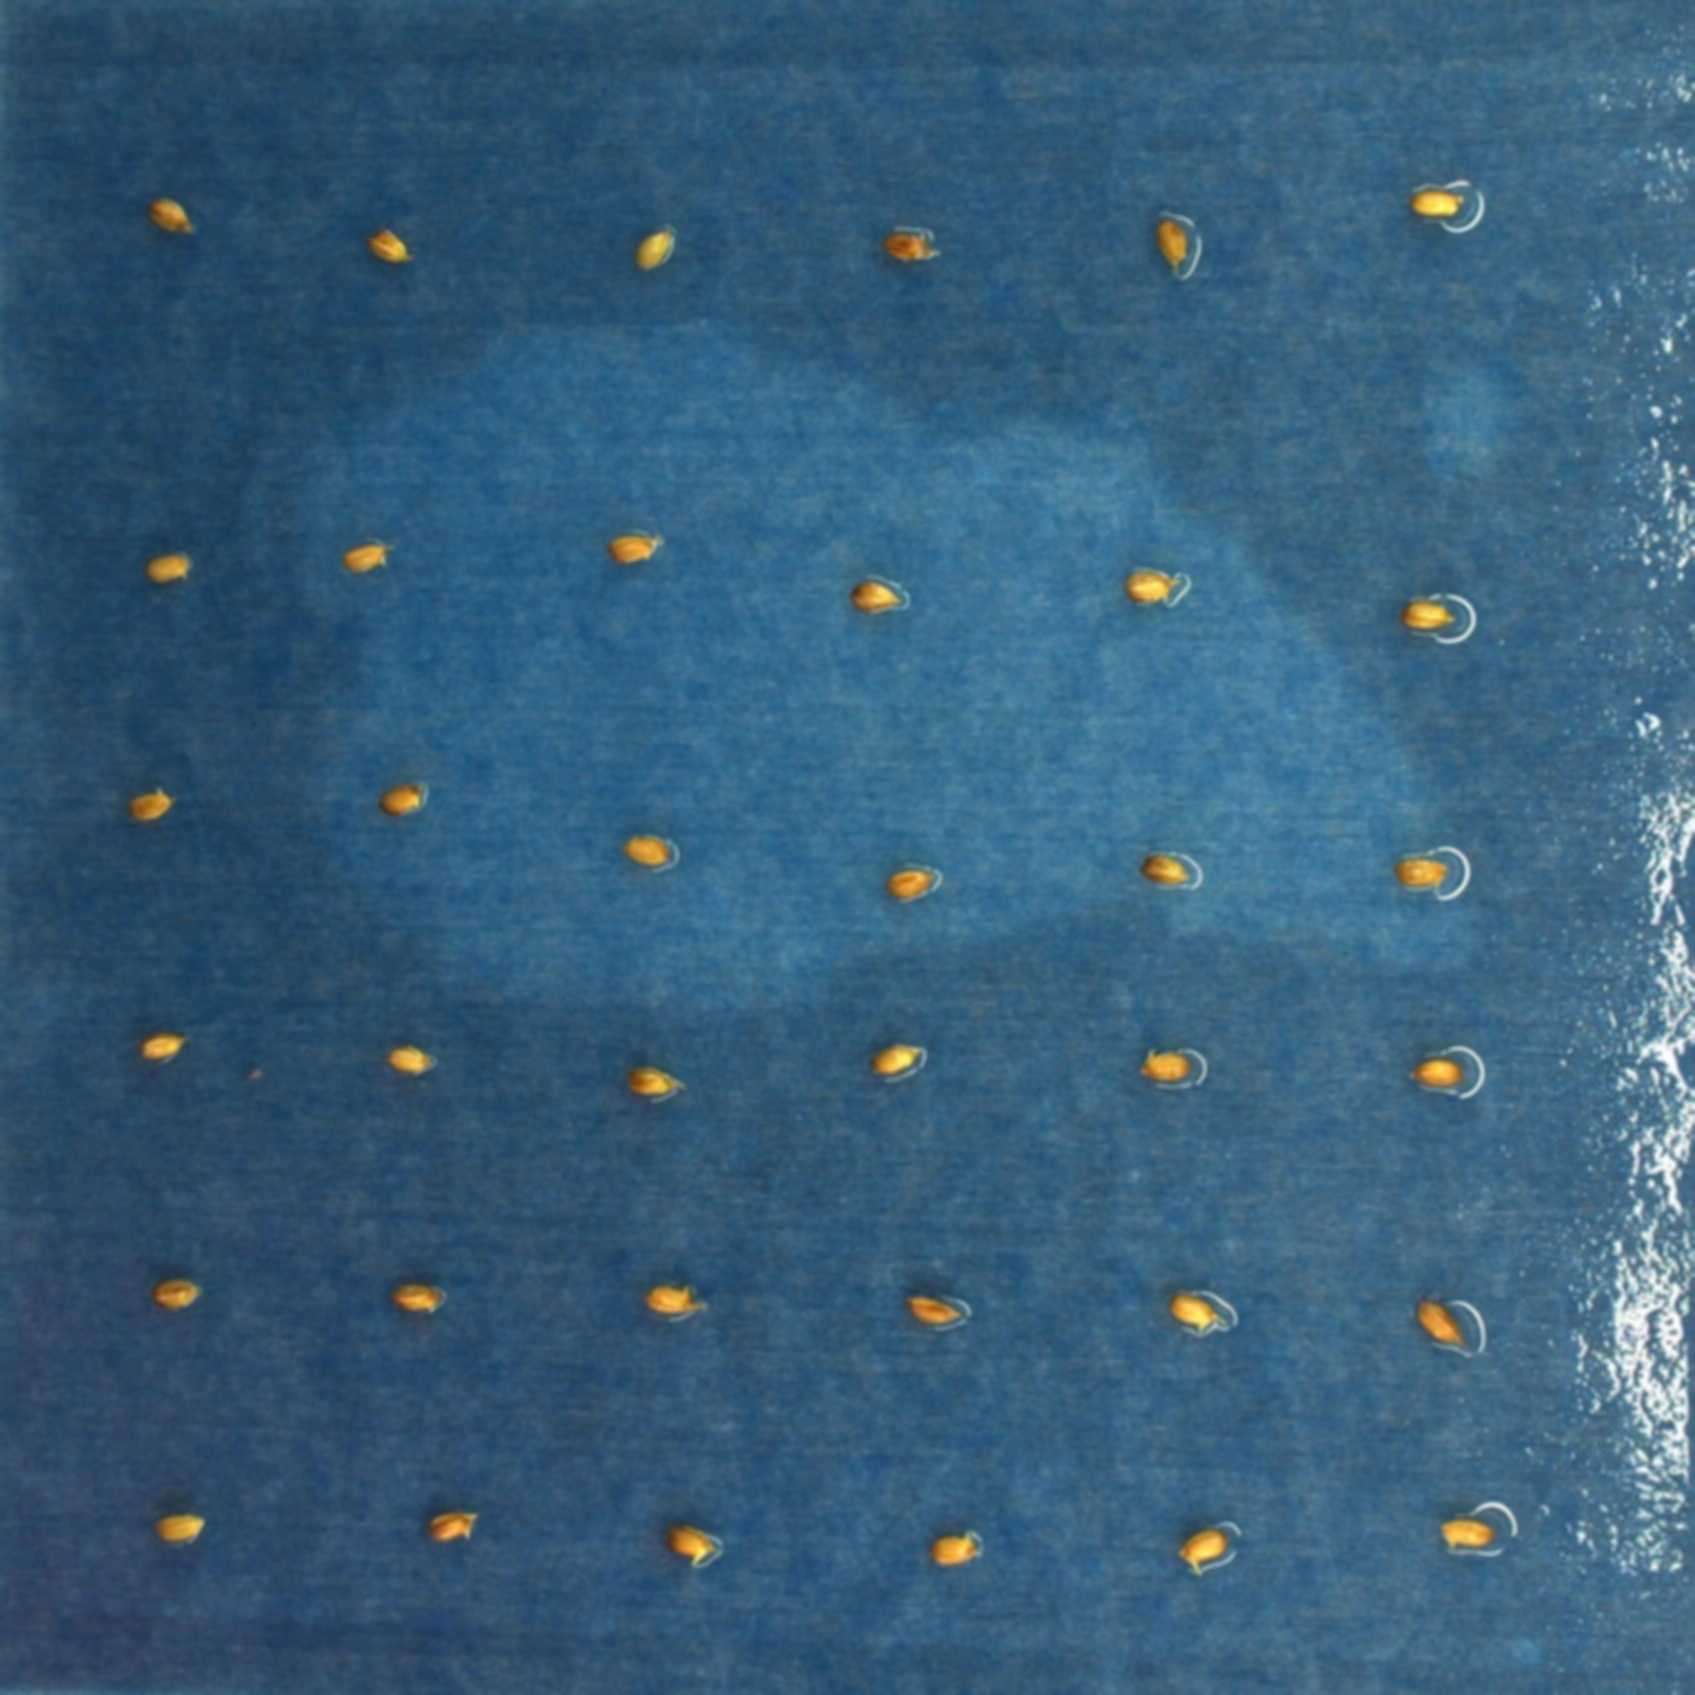not sprout: (1169, 1291, 1226, 1335), (1178, 1527, 1228, 1577), (1419, 1302, 1468, 1347), (664, 1524, 716, 1568), (1155, 216, 1189, 279), (1124, 568, 1181, 605), (882, 228, 941, 264), (871, 1043, 925, 1080), (633, 227, 675, 273), (643, 1284, 702, 1316), (905, 1296, 964, 1329), (608, 532, 664, 567), (425, 1509, 477, 1544), (1440, 1520, 1496, 1552), (1402, 599, 1456, 632), (1139, 852, 1194, 885), (852, 581, 903, 615), (366, 228, 414, 264), (624, 834, 674, 868), (885, 868, 934, 902), (151, 1277, 200, 1312), (1408, 188, 1465, 217), (1408, 1059, 1465, 1088), (1395, 858, 1450, 889), (343, 540, 388, 577), (1142, 1046, 1189, 1082), (931, 1532, 978, 1568), (390, 1284, 445, 1313), (379, 784, 427, 818), (147, 200, 194, 234), (144, 553, 191, 587), (126, 787, 172, 821), (154, 1513, 205, 1544), (627, 1066, 681, 1094), (388, 1045, 433, 1076), (140, 1034, 185, 1063)
